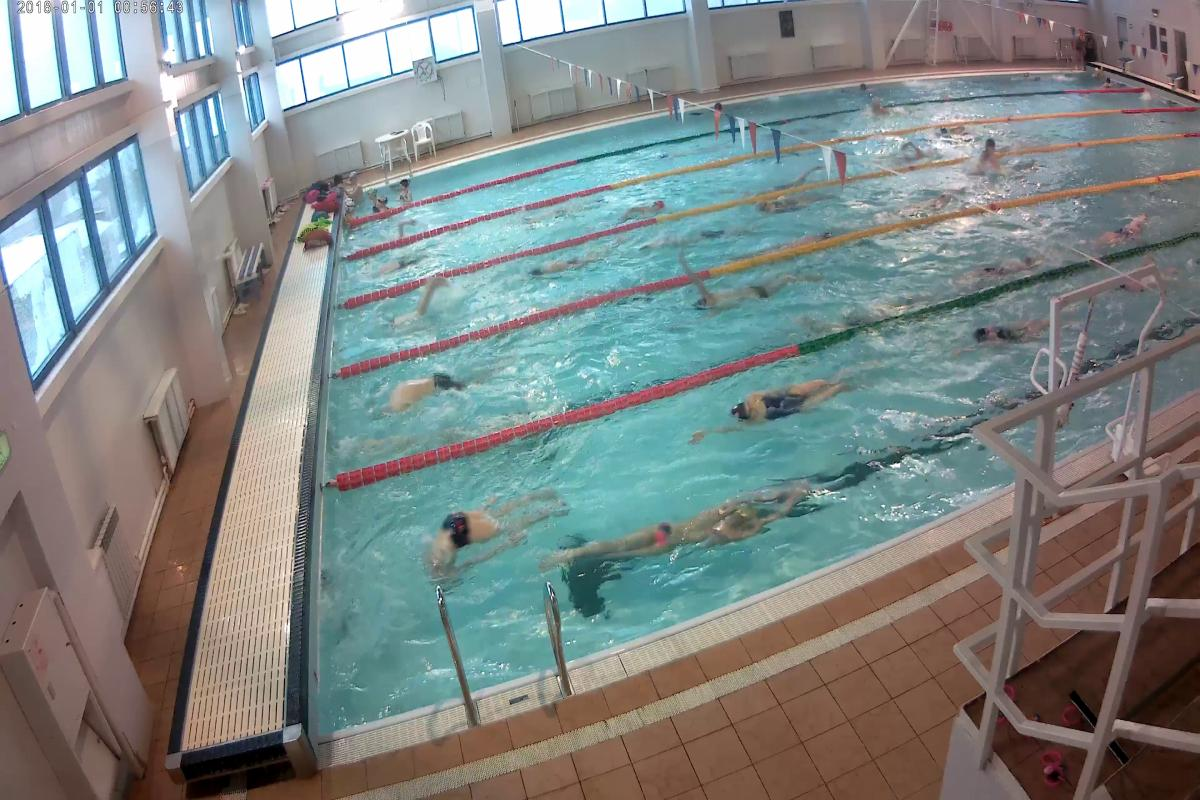swimmer: (562, 483, 806, 575), (417, 488, 535, 586), (702, 370, 850, 442), (678, 267, 814, 319), (372, 368, 476, 426), (964, 309, 1043, 353), (1089, 206, 1149, 252), (398, 274, 450, 323), (528, 249, 589, 278), (754, 192, 814, 220), (619, 190, 676, 219), (967, 137, 1006, 177), (864, 92, 899, 118)
